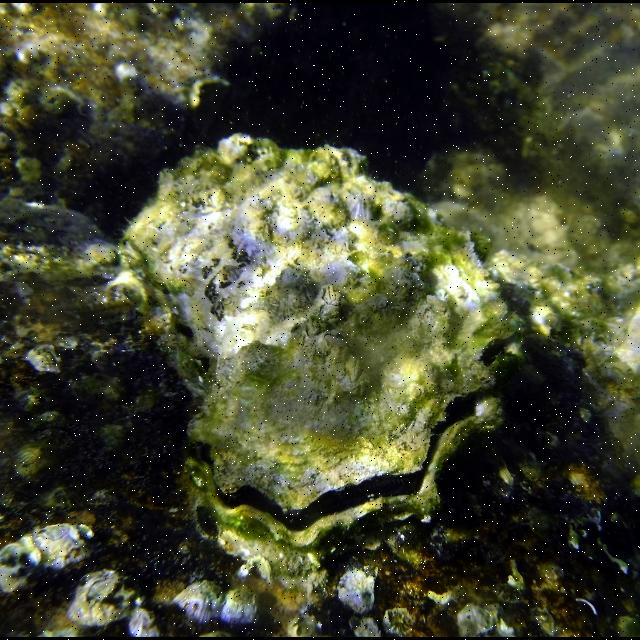Oyster-Open: (119, 132, 526, 554)
